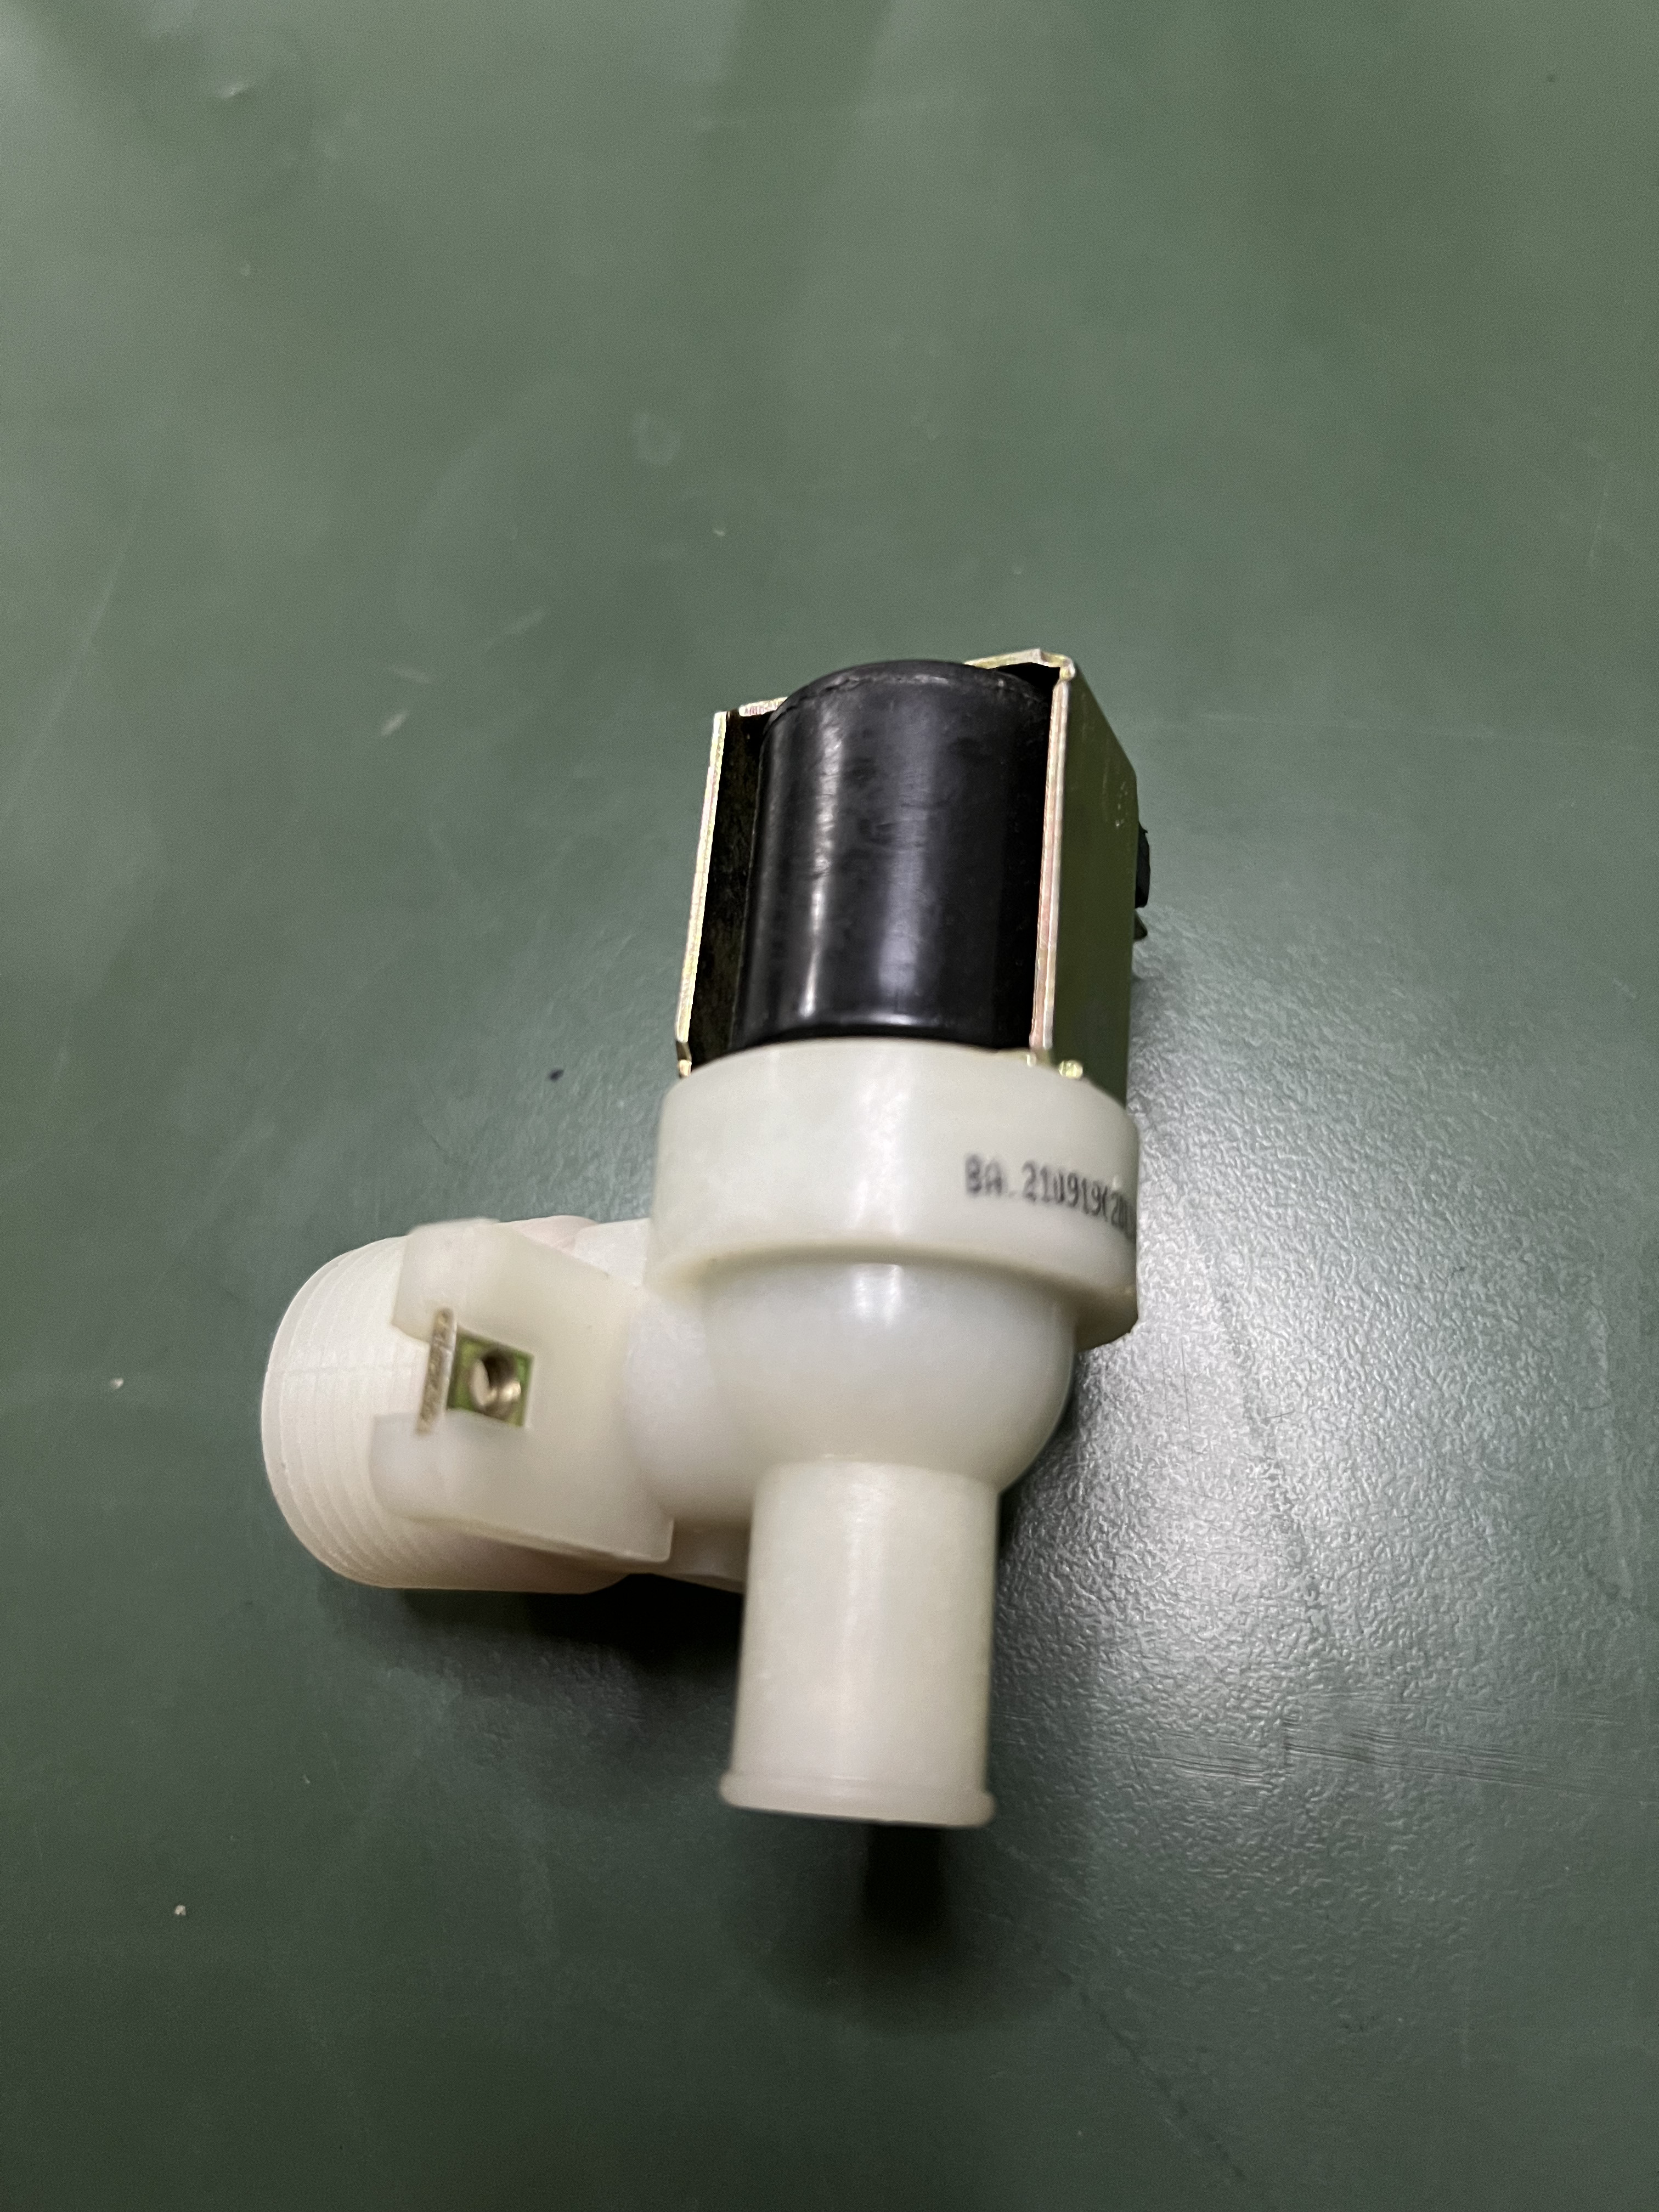godrej_inlet_valves: (249, 622, 1190, 1871)
